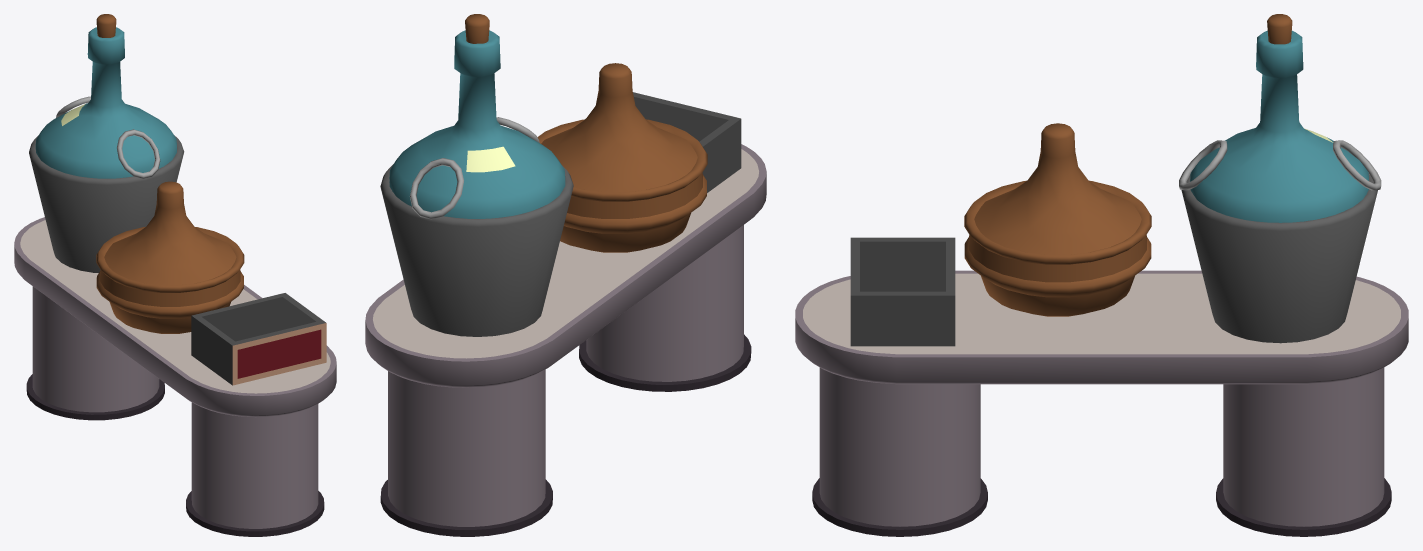
The model's file is GB_176_shop_counter.glb.
3 views of the same model, side by side, from view 1: azimuth 30°, elevation 25°; view 2: azimuth 150°, elevation 25°; view 3: azimuth 270°, elevation 25° (orthographic). The views are drawn at different scales.
Parts seen in each view (by area): view 1: shop_counter_176, Bottle01, Bottle02, Box; view 2: shop_counter_176, Bottle01, Bottle02, Box; view 3: shop_counter_176, Bottle01, Bottle02, Box.
Boxes of the visible parts, x1=… form: shop_counter_176: x1=14, y1=217, x2=336, y2=536; Bottle01: x1=29, y1=14, x2=184, y2=272; Bottle02: x1=96, y1=181, x2=244, y2=333; Box: x1=191, y1=293, x2=326, y2=385; shop_counter_176: x1=365, y1=144, x2=766, y2=536; Bottle01: x1=380, y1=14, x2=573, y2=336; Bottle02: x1=537, y1=63, x2=707, y2=252; Box: x1=585, y1=92, x2=741, y2=192; shop_counter_176: x1=795, y1=270, x2=1408, y2=536; Bottle01: x1=1179, y1=14, x2=1381, y2=343; Bottle02: x1=964, y1=123, x2=1151, y2=316; Box: x1=850, y1=237, x2=955, y2=346.
Size of the model in its own units: 0.8373 by 1.94 by 2.24.
